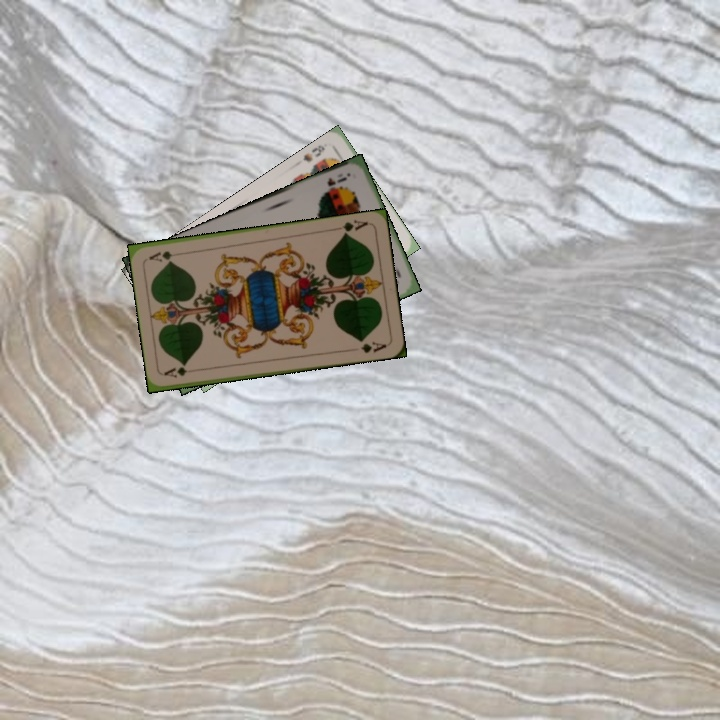GA: (331, 216, 370, 238), (161, 363, 201, 380)
S8: (299, 141, 328, 164)
SO: (317, 173, 350, 196)
